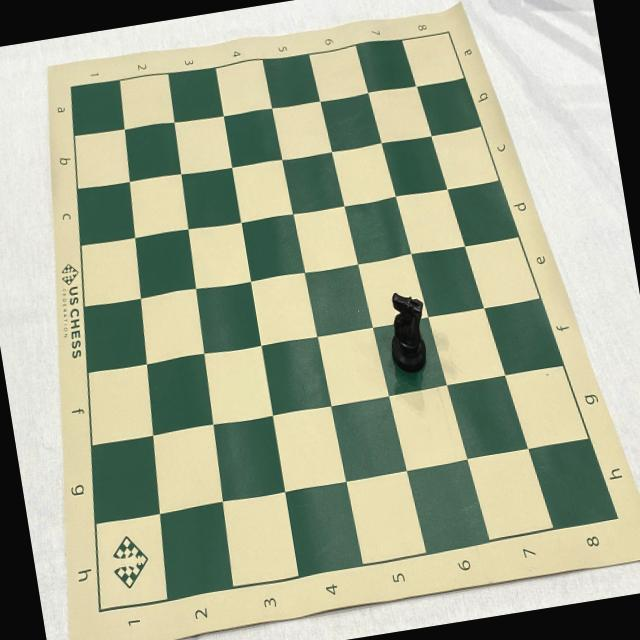black-knight: (383, 288, 434, 379)
